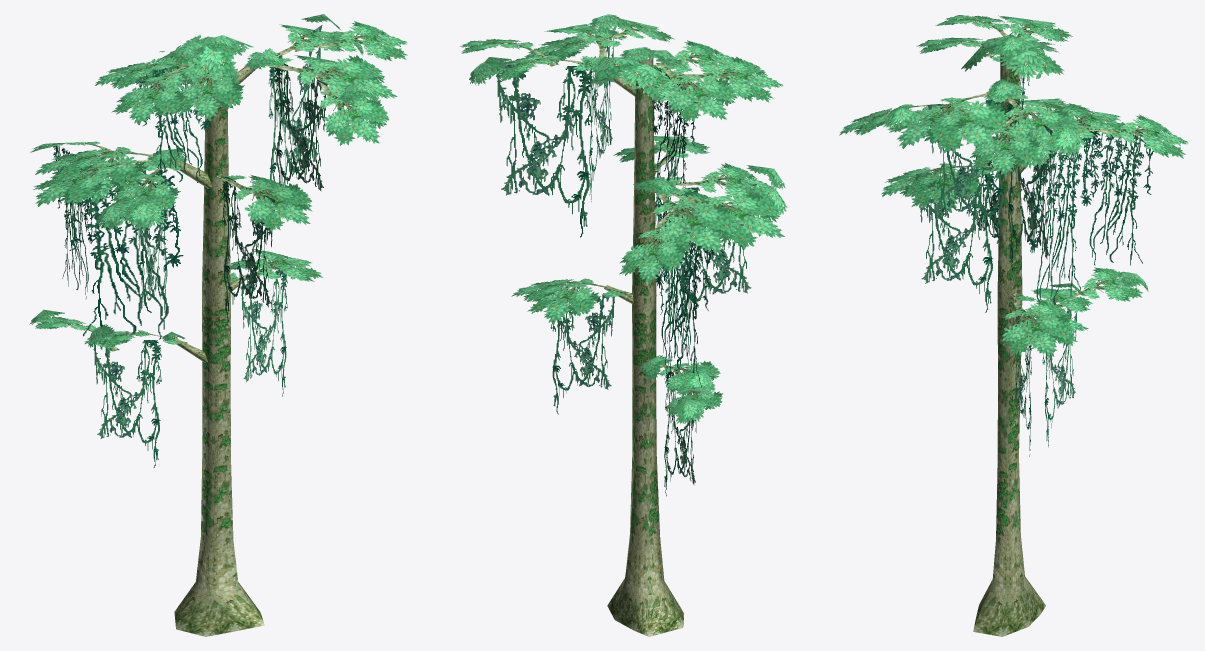
The model's file is nml-bd061.glb.
3 renders of one model, left to right at view 1: azimuth 30°, elevation 25°; view 2: azimuth 150°, elevation 25°; view 3: azimuth 270°, elevation 25°, orthographic.
Visible parts, largest first — view 1: geom_node_1, geom_node_0, geom_node_2; view 2: geom_node_1, geom_node_0, geom_node_2; view 3: geom_node_1, geom_node_0, geom_node_2.
Part boxes in pixels (x1,y1,x2,y2): geom_node_1: (30,34,312,339); geom_node_0: (29,249,323,636); geom_node_2: (244,14,407,211); geom_node_1: (590,40,787,387); geom_node_0: (511,278,723,636); geom_node_2: (460,14,674,237); geom_node_1: (881,15,1188,312); geom_node_0: (973,267,1148,636); geom_node_2: (839,79,1085,271).
Size of the model in its own units: 9.7 by 14.65 by 8.2.
8 materials, 8 textured.
